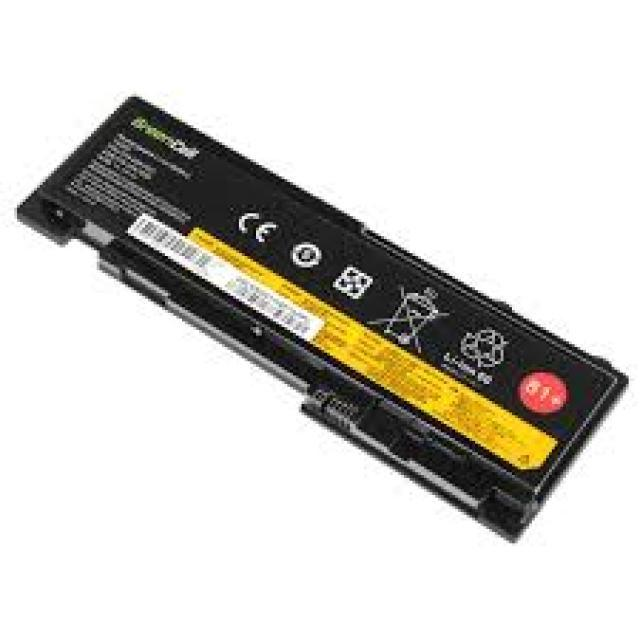Battery: (10, 84, 640, 640)
